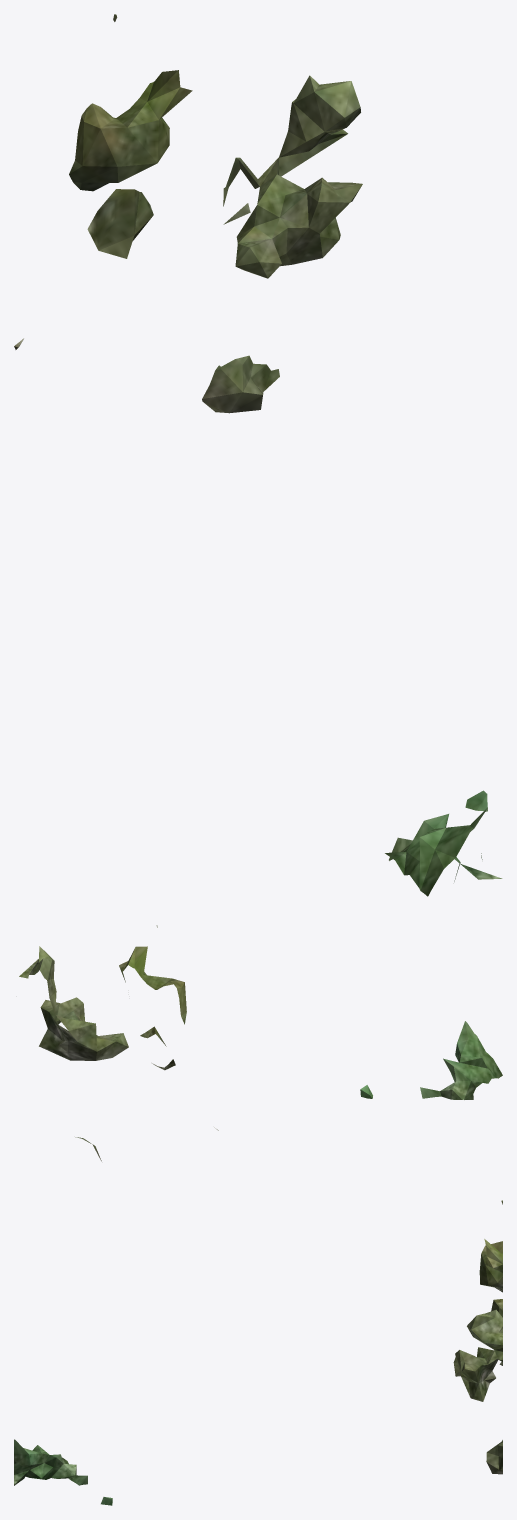
The picture shows the model from 3 angles, top to bottom: view 1: azimuth 30°, elevation 25°; view 2: azimuth 150°, elevation 25°; view 3: azimuth 270°, elevation 25°; orthographic projection. The views are drawn at different scales.
Size of the model in its own units: 5.53 by 7.99 by 11.8.
1 material, 1 textured.
